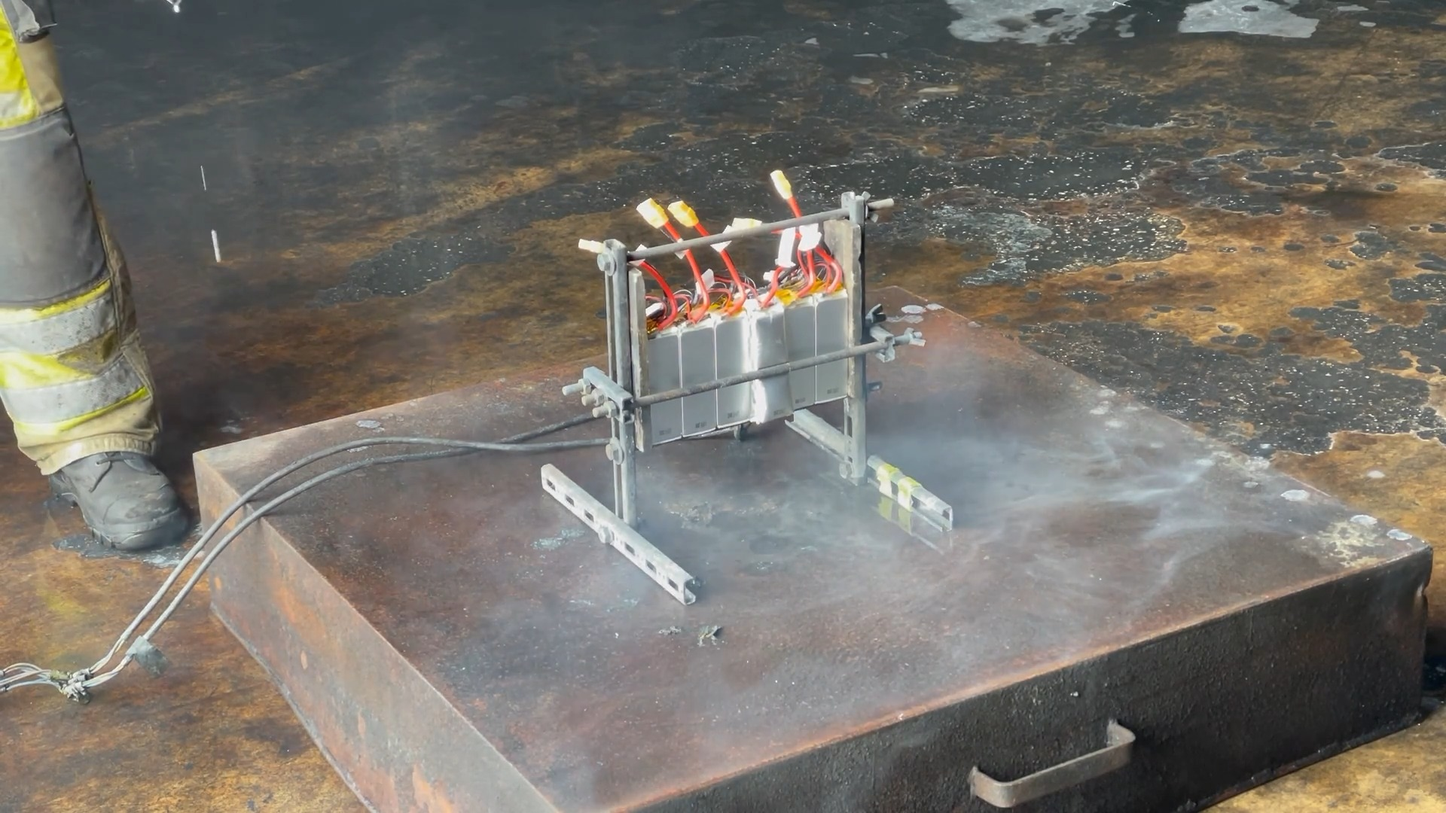smoke: (612, 318, 1349, 708)
